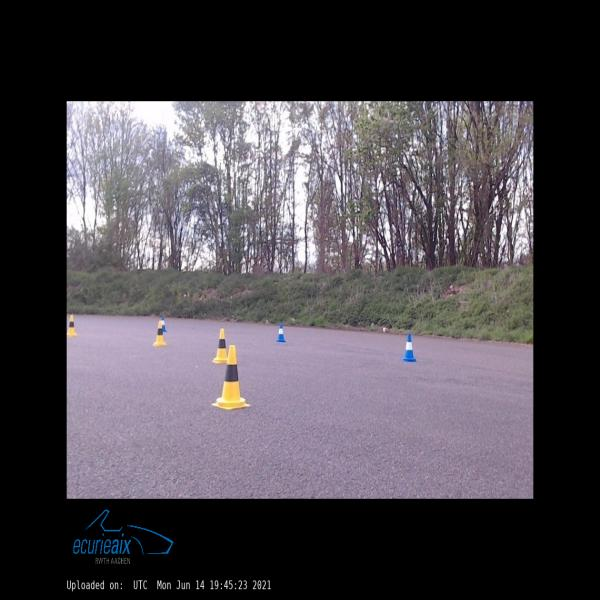blue_cone: (403, 334, 416, 362), (277, 323, 285, 342), (162, 316, 167, 332)
yellow_cone: (212, 346, 250, 409), (212, 328, 227, 363), (153, 321, 167, 346), (67, 314, 77, 335)
